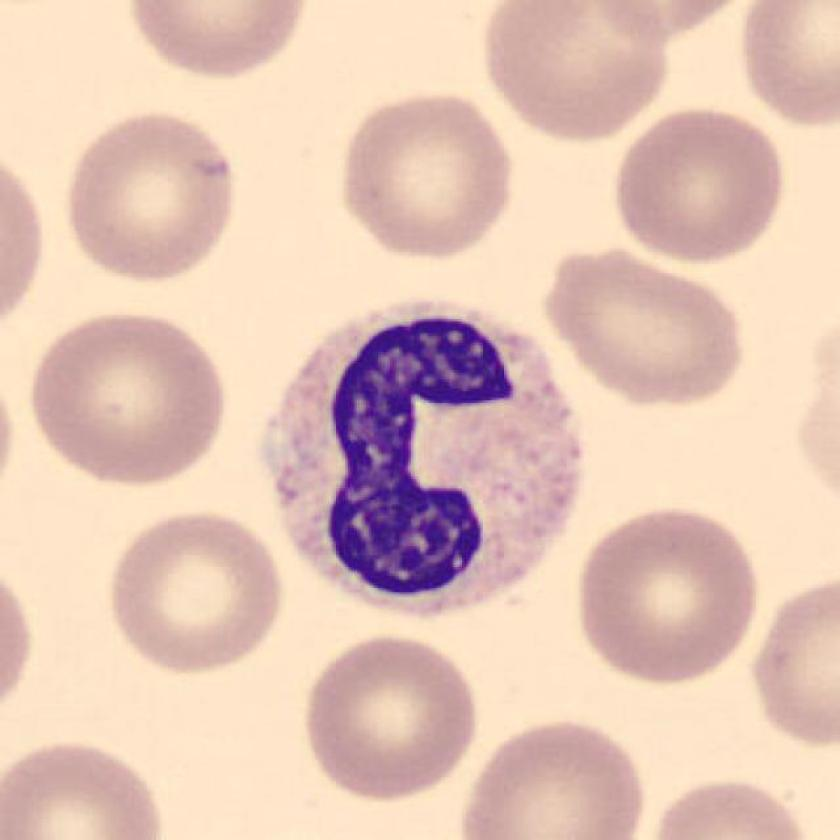neutrophil: (262, 302, 580, 615)
